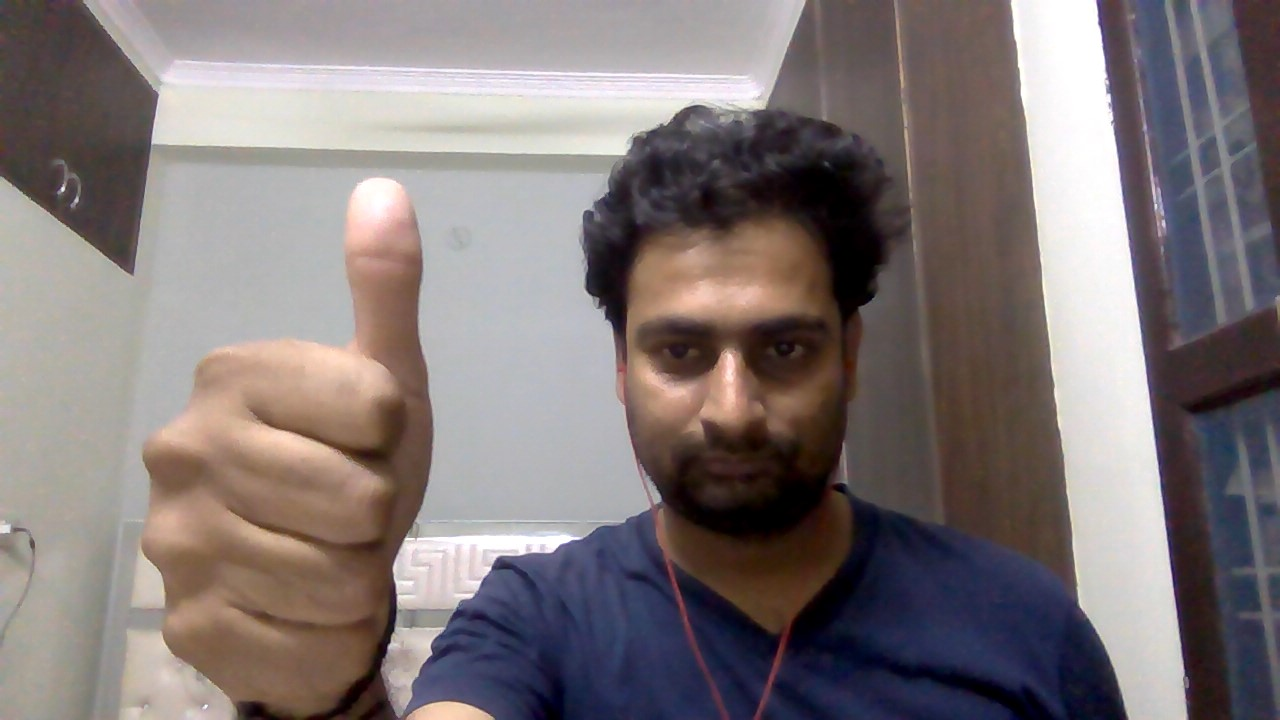Save: (127, 168, 448, 709)
